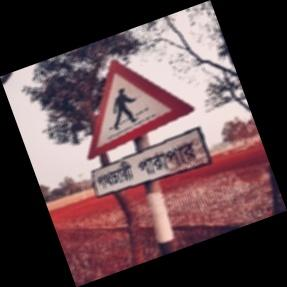Pedestrian-crossing: (85, 58, 208, 197)
